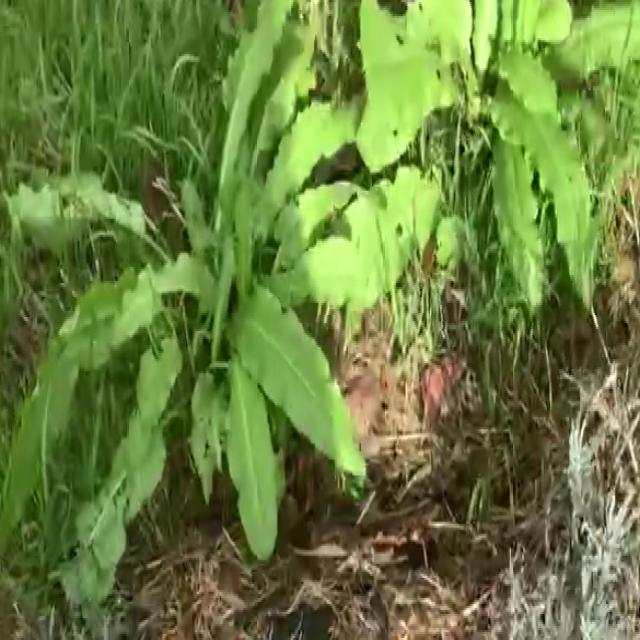organic waste: (29, 0, 390, 640), (365, 0, 640, 297)
